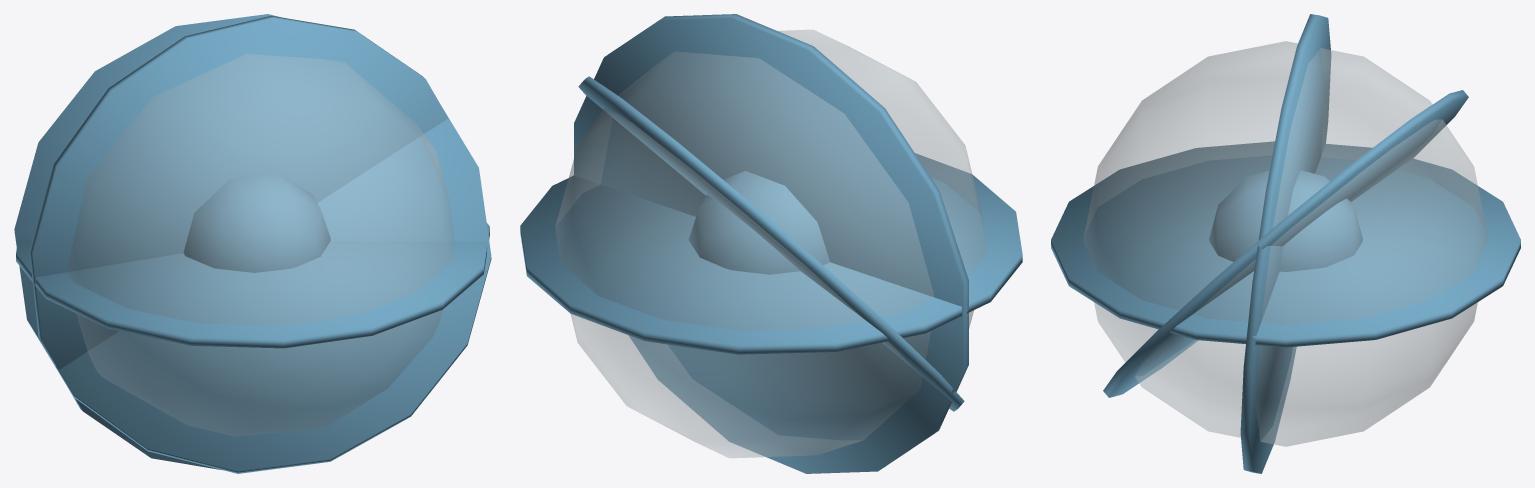
The model's file is prop_holo_globe.glb.
The picture shows the model from 3 angles, left to right: view 1: azimuth 30°, elevation 25°; view 2: azimuth 150°, elevation 25°; view 3: azimuth 270°, elevation 25°; orthographic projection. The views are drawn at different scales.
Parts seen in each view (by area): view 1: prop_holo_globe; view 2: prop_holo_globe; view 3: prop_holo_globe.
Boxes of the visible parts, box(x1,y1,x2,y2) form: prop_holo_globe: box(14, 14, 491, 473); prop_holo_globe: box(520, 14, 1022, 473); prop_holo_globe: box(1051, 14, 1520, 473).
Size of the model in its own units: 3 by 2.97 by 3.
